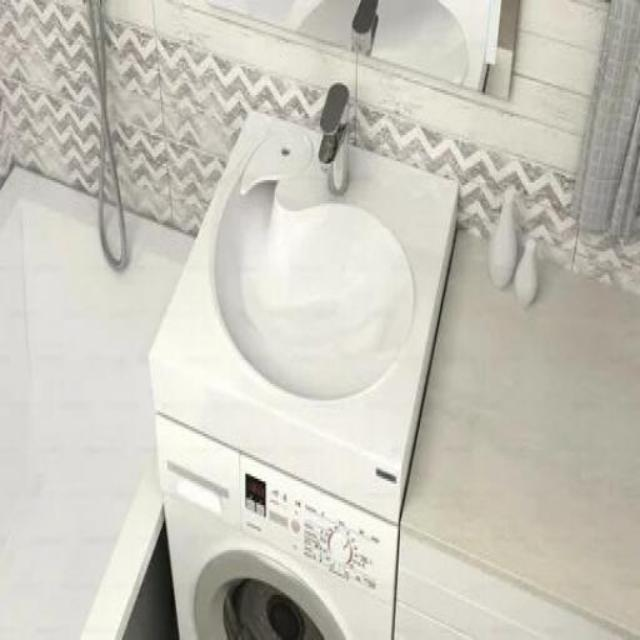Washing-Machine: (156, 114, 427, 638)
